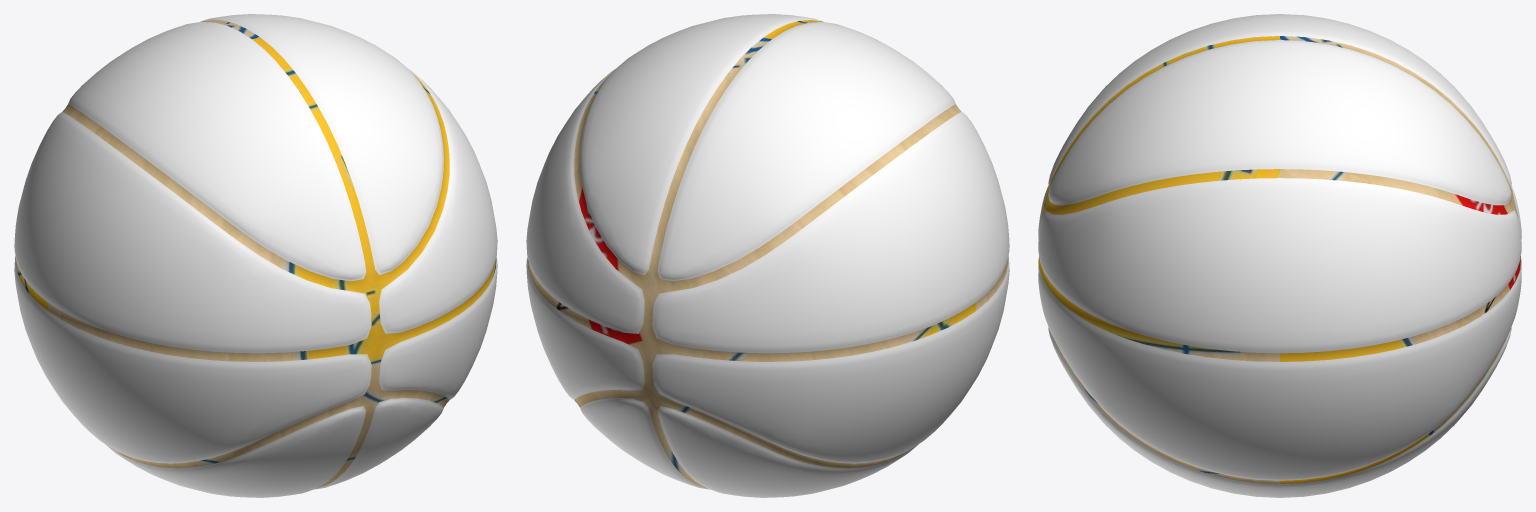
Rendered from ball.fbx.
3 renders of one model, left to right at view 1: azimuth 30°, elevation 25°; view 2: azimuth 150°, elevation 25°; view 3: azimuth 270°, elevation 25°, orthographic.
Parts seen in each view (by area): view 1: Cube_Cube.001; view 2: Cube_Cube.001; view 3: Cube_Cube.001.
Boxes of the visible parts, bbox=[...] form: Cube_Cube.001: bbox=[14, 14, 497, 497]; Cube_Cube.001: bbox=[526, 14, 1009, 497]; Cube_Cube.001: bbox=[1038, 14, 1521, 497].
Bounding box in the file's own units: 200 × 200 × 200.
